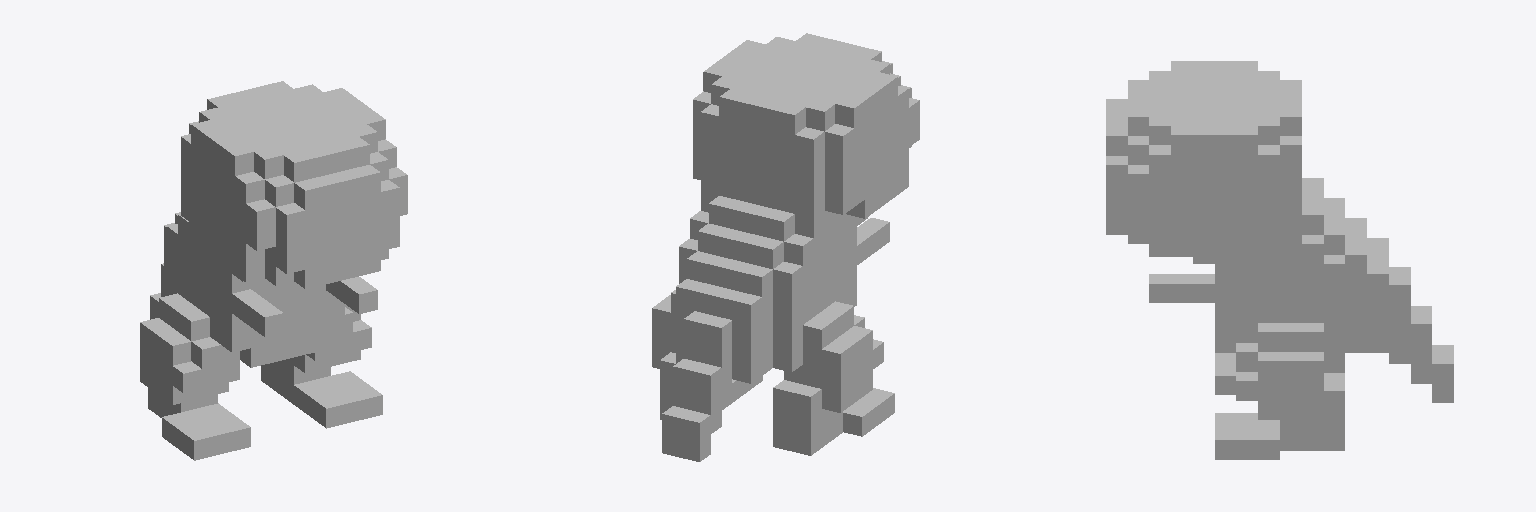
The model's file is rex.obj.
3 views of the same model, side by side, from view 1: azimuth 30°, elevation 25°; view 2: azimuth 150°, elevation 25°; view 3: azimuth 270°, elevation 25° (orthographic).
Size of the model in its own units: 10 by 16 by 16.